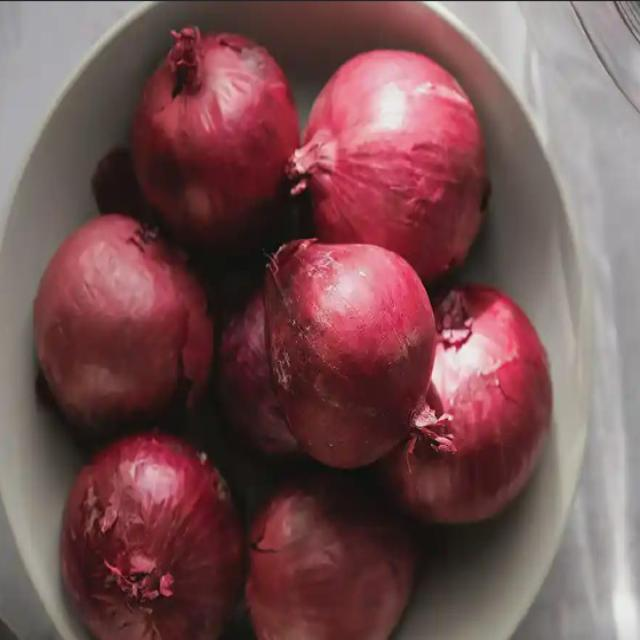healthy: (33, 26, 552, 639)
